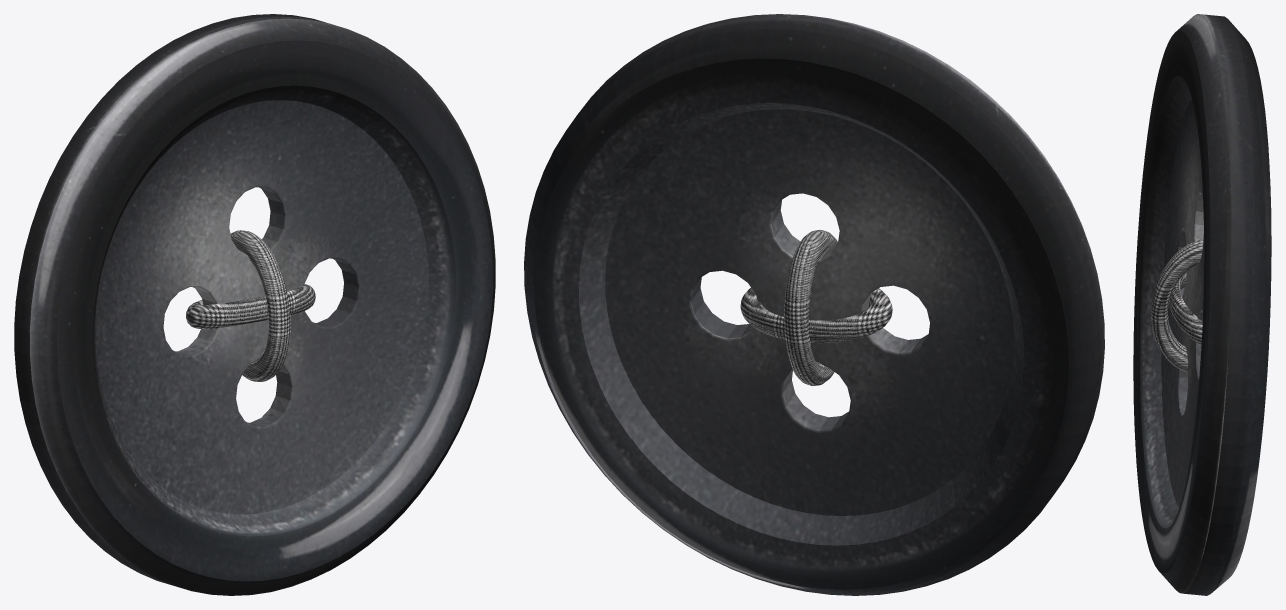
Rendered from singlebutton.glb.
The picture shows the model from 3 angles, left to right: view 1: azimuth 30°, elevation 25°; view 2: azimuth 150°, elevation 25°; view 3: azimuth 270°, elevation 25°; orthographic projection. The views are drawn at different scales.
Visible parts, largest first — view 1: Single_Buttons; view 2: Single_Buttons; view 3: Single_Buttons.
Boxes of the visible parts, <box> form: Single_Buttons: <box>14,14,495,595</box>; Single_Buttons: <box>524,14,1104,595</box>; Single_Buttons: <box>1133,14,1271,595</box>.
Bounding box in the file's own units: 0.00282 × 0.00297 × 0.000716.
Materials: 2 (2 with a texture image).
